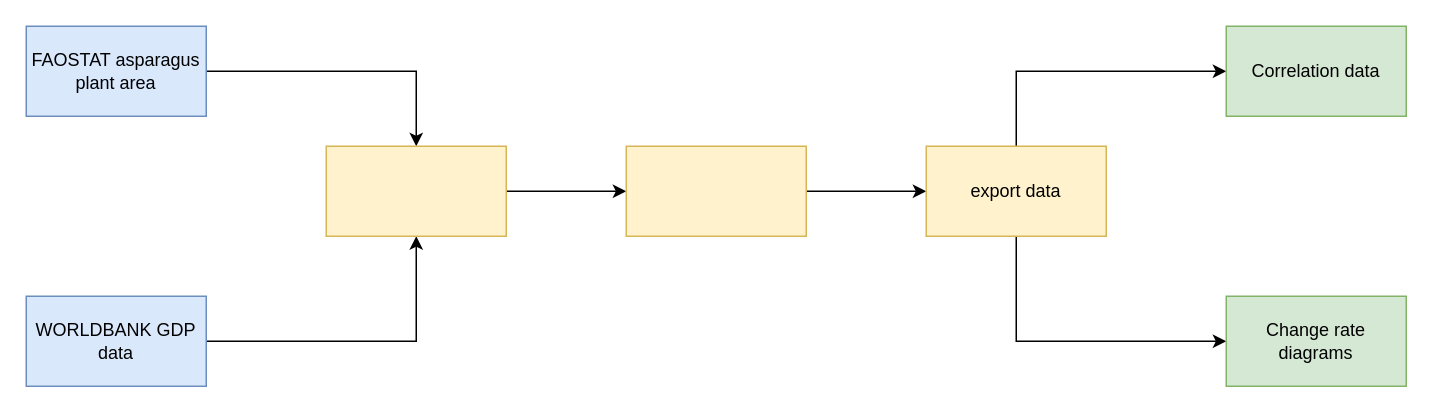
Some shapes in this 1433 by 413 pixel diagram are drawn without their labels. Here are the shapes that lost their labels. From the top down, the centre of each, then its label:
(x=415, y=190): reading input
(x=715, y=190): calculate change rate
